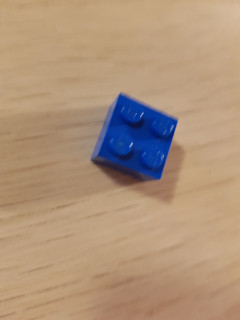2x2 blue: (88, 90, 182, 185)
